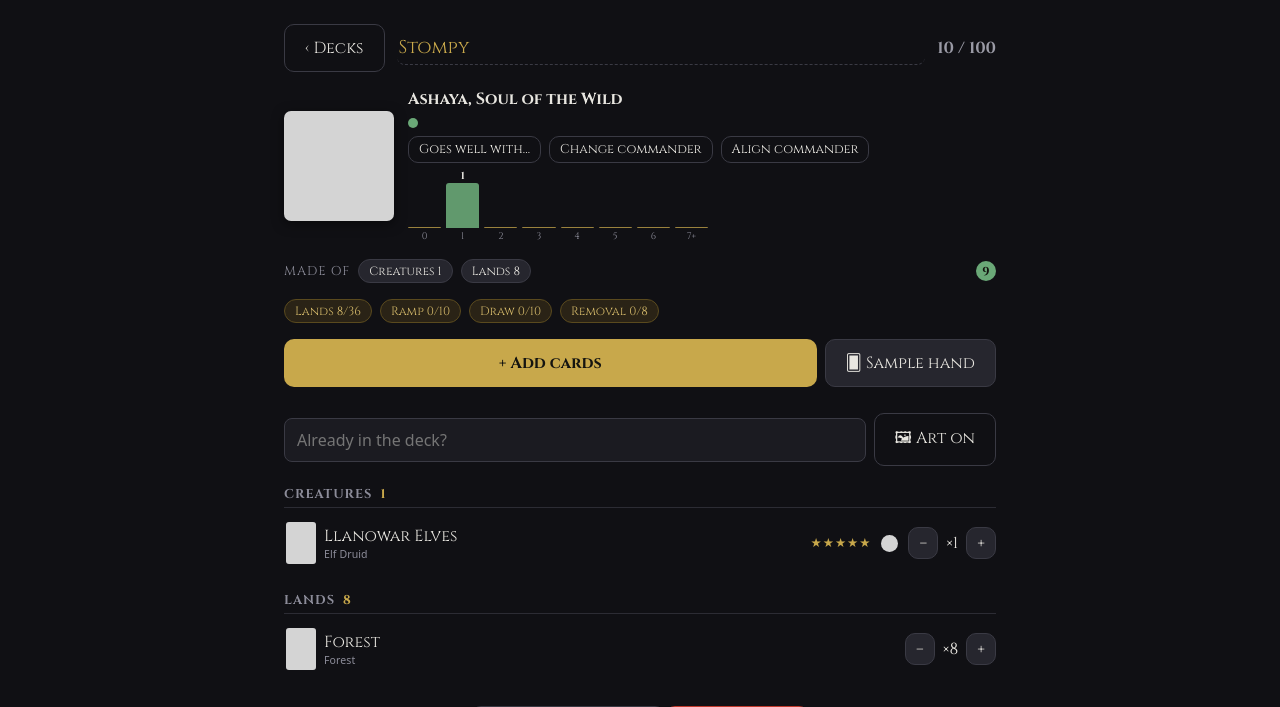
Test: align commander opens the suggestion sheet
Click the button "Align commander" at (795, 150), box [721,136,869,163]
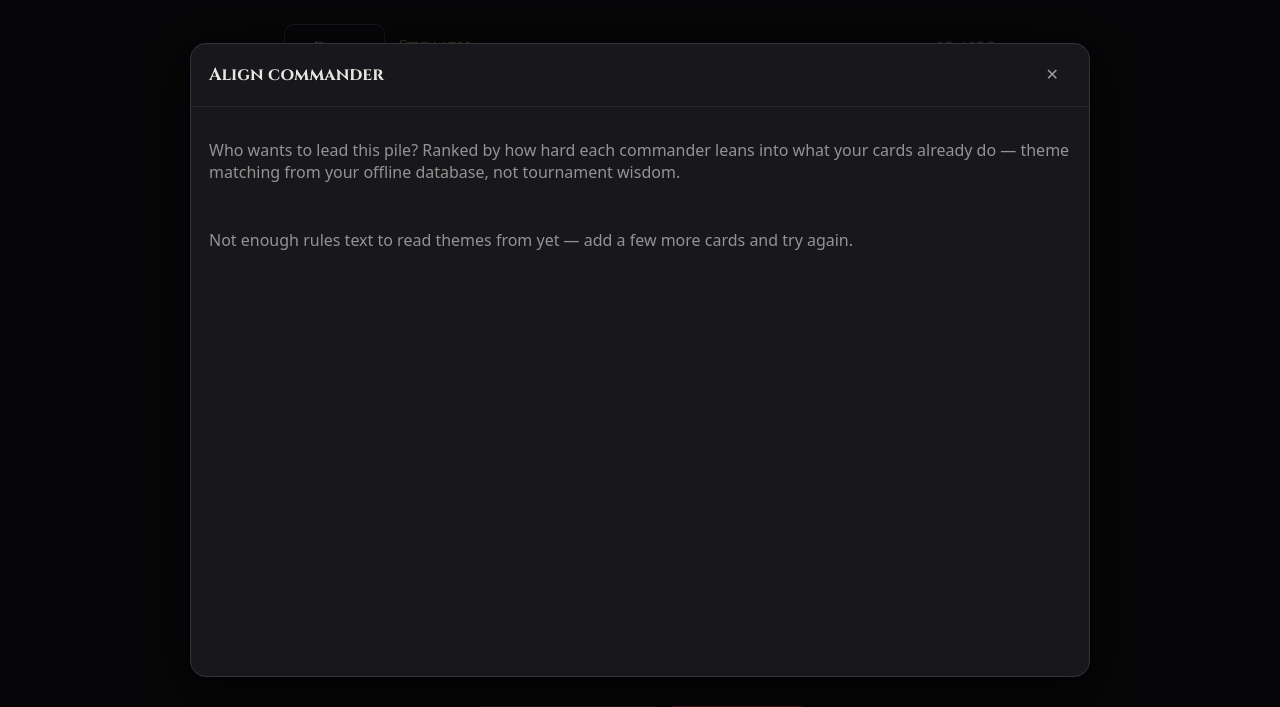
Expected: the text "Who wants to lead" is shown, [209,139,1069,183]
